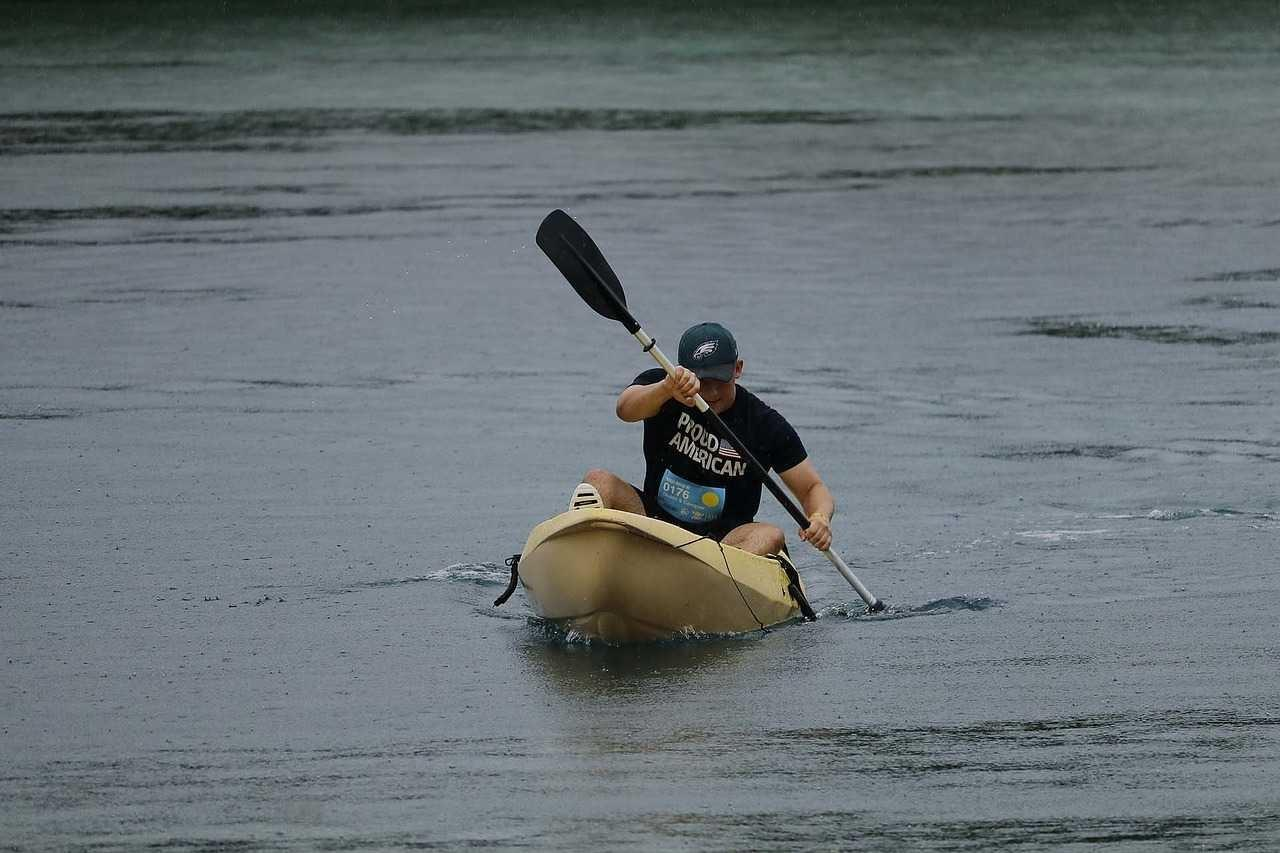kayak: (515, 481, 810, 648)
